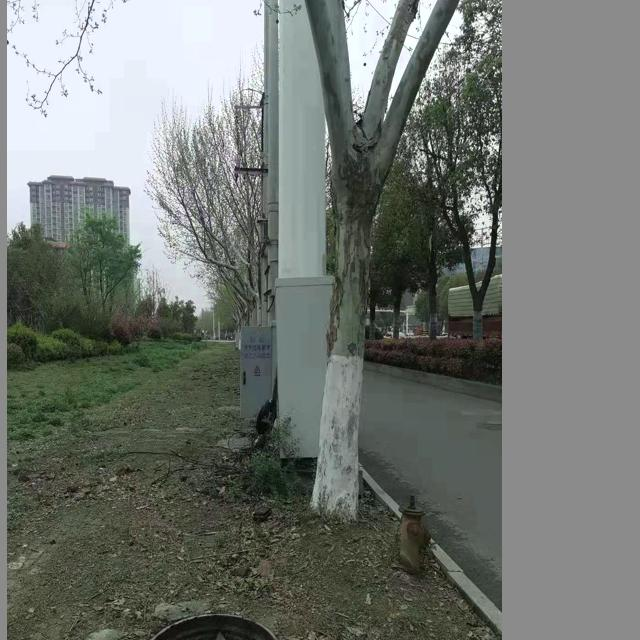lose: (139, 611, 282, 640)
